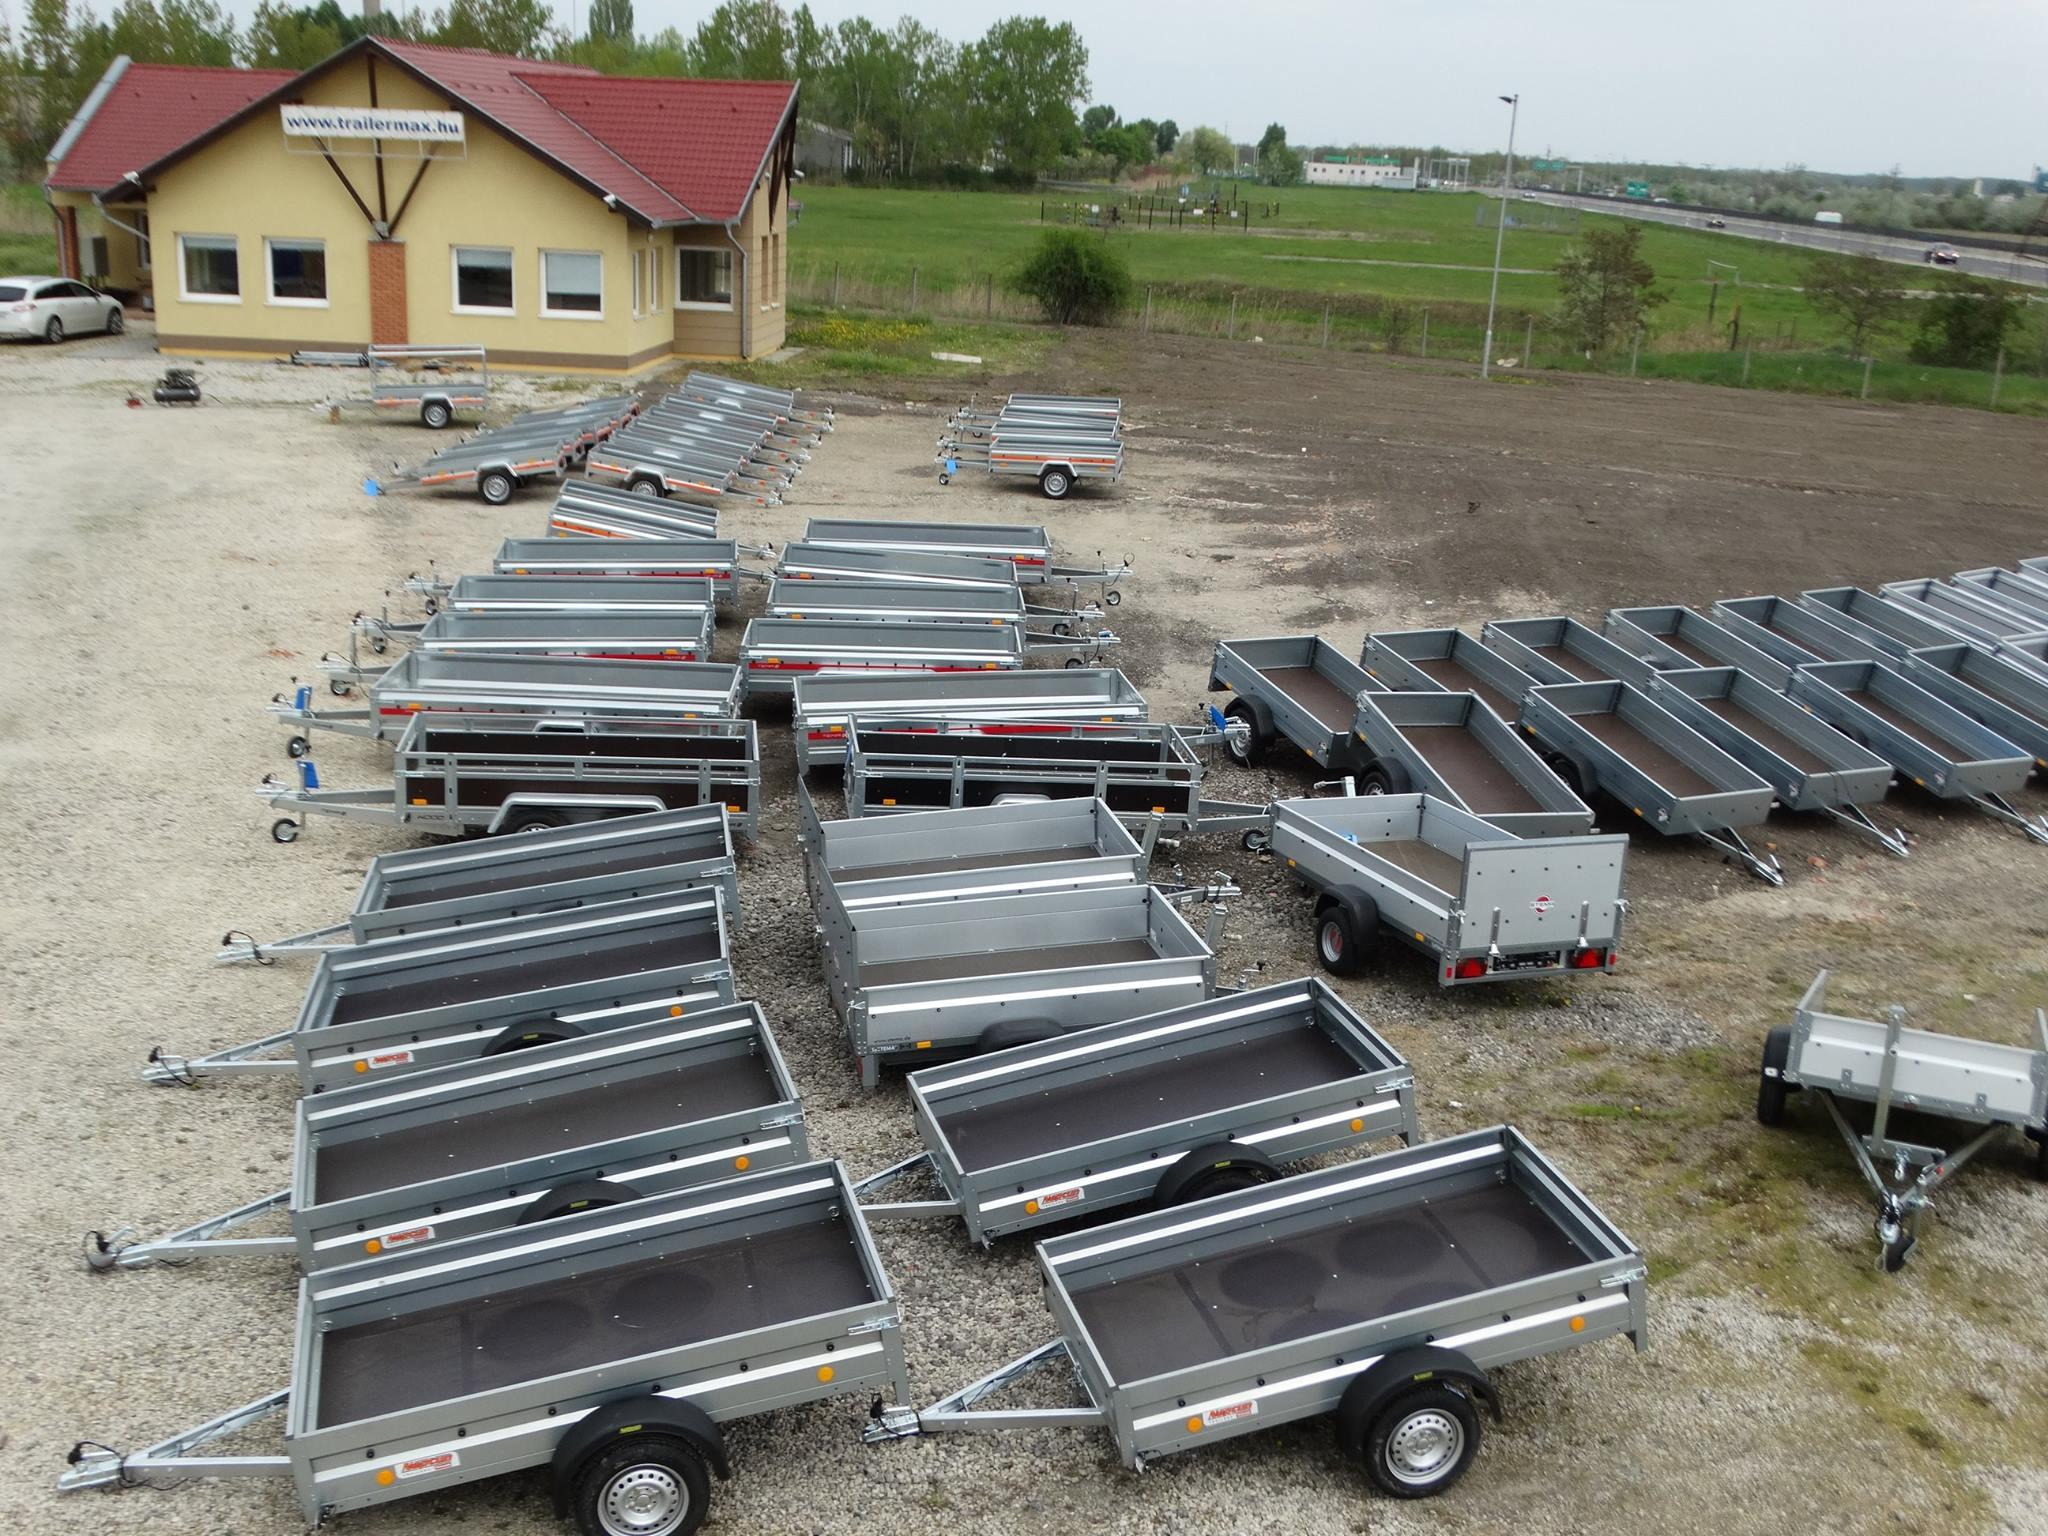trailer: (285, 1154, 911, 1530), (1034, 1121, 1655, 1473), (287, 999, 813, 1275), (905, 975, 1422, 1250), (290, 883, 742, 1104), (1271, 787, 1630, 987), (348, 799, 743, 975), (824, 883, 1221, 1057), (1521, 678, 1780, 842), (1351, 689, 1595, 854), (1643, 665, 1896, 815), (1785, 662, 2038, 802), (1211, 634, 1405, 770)
